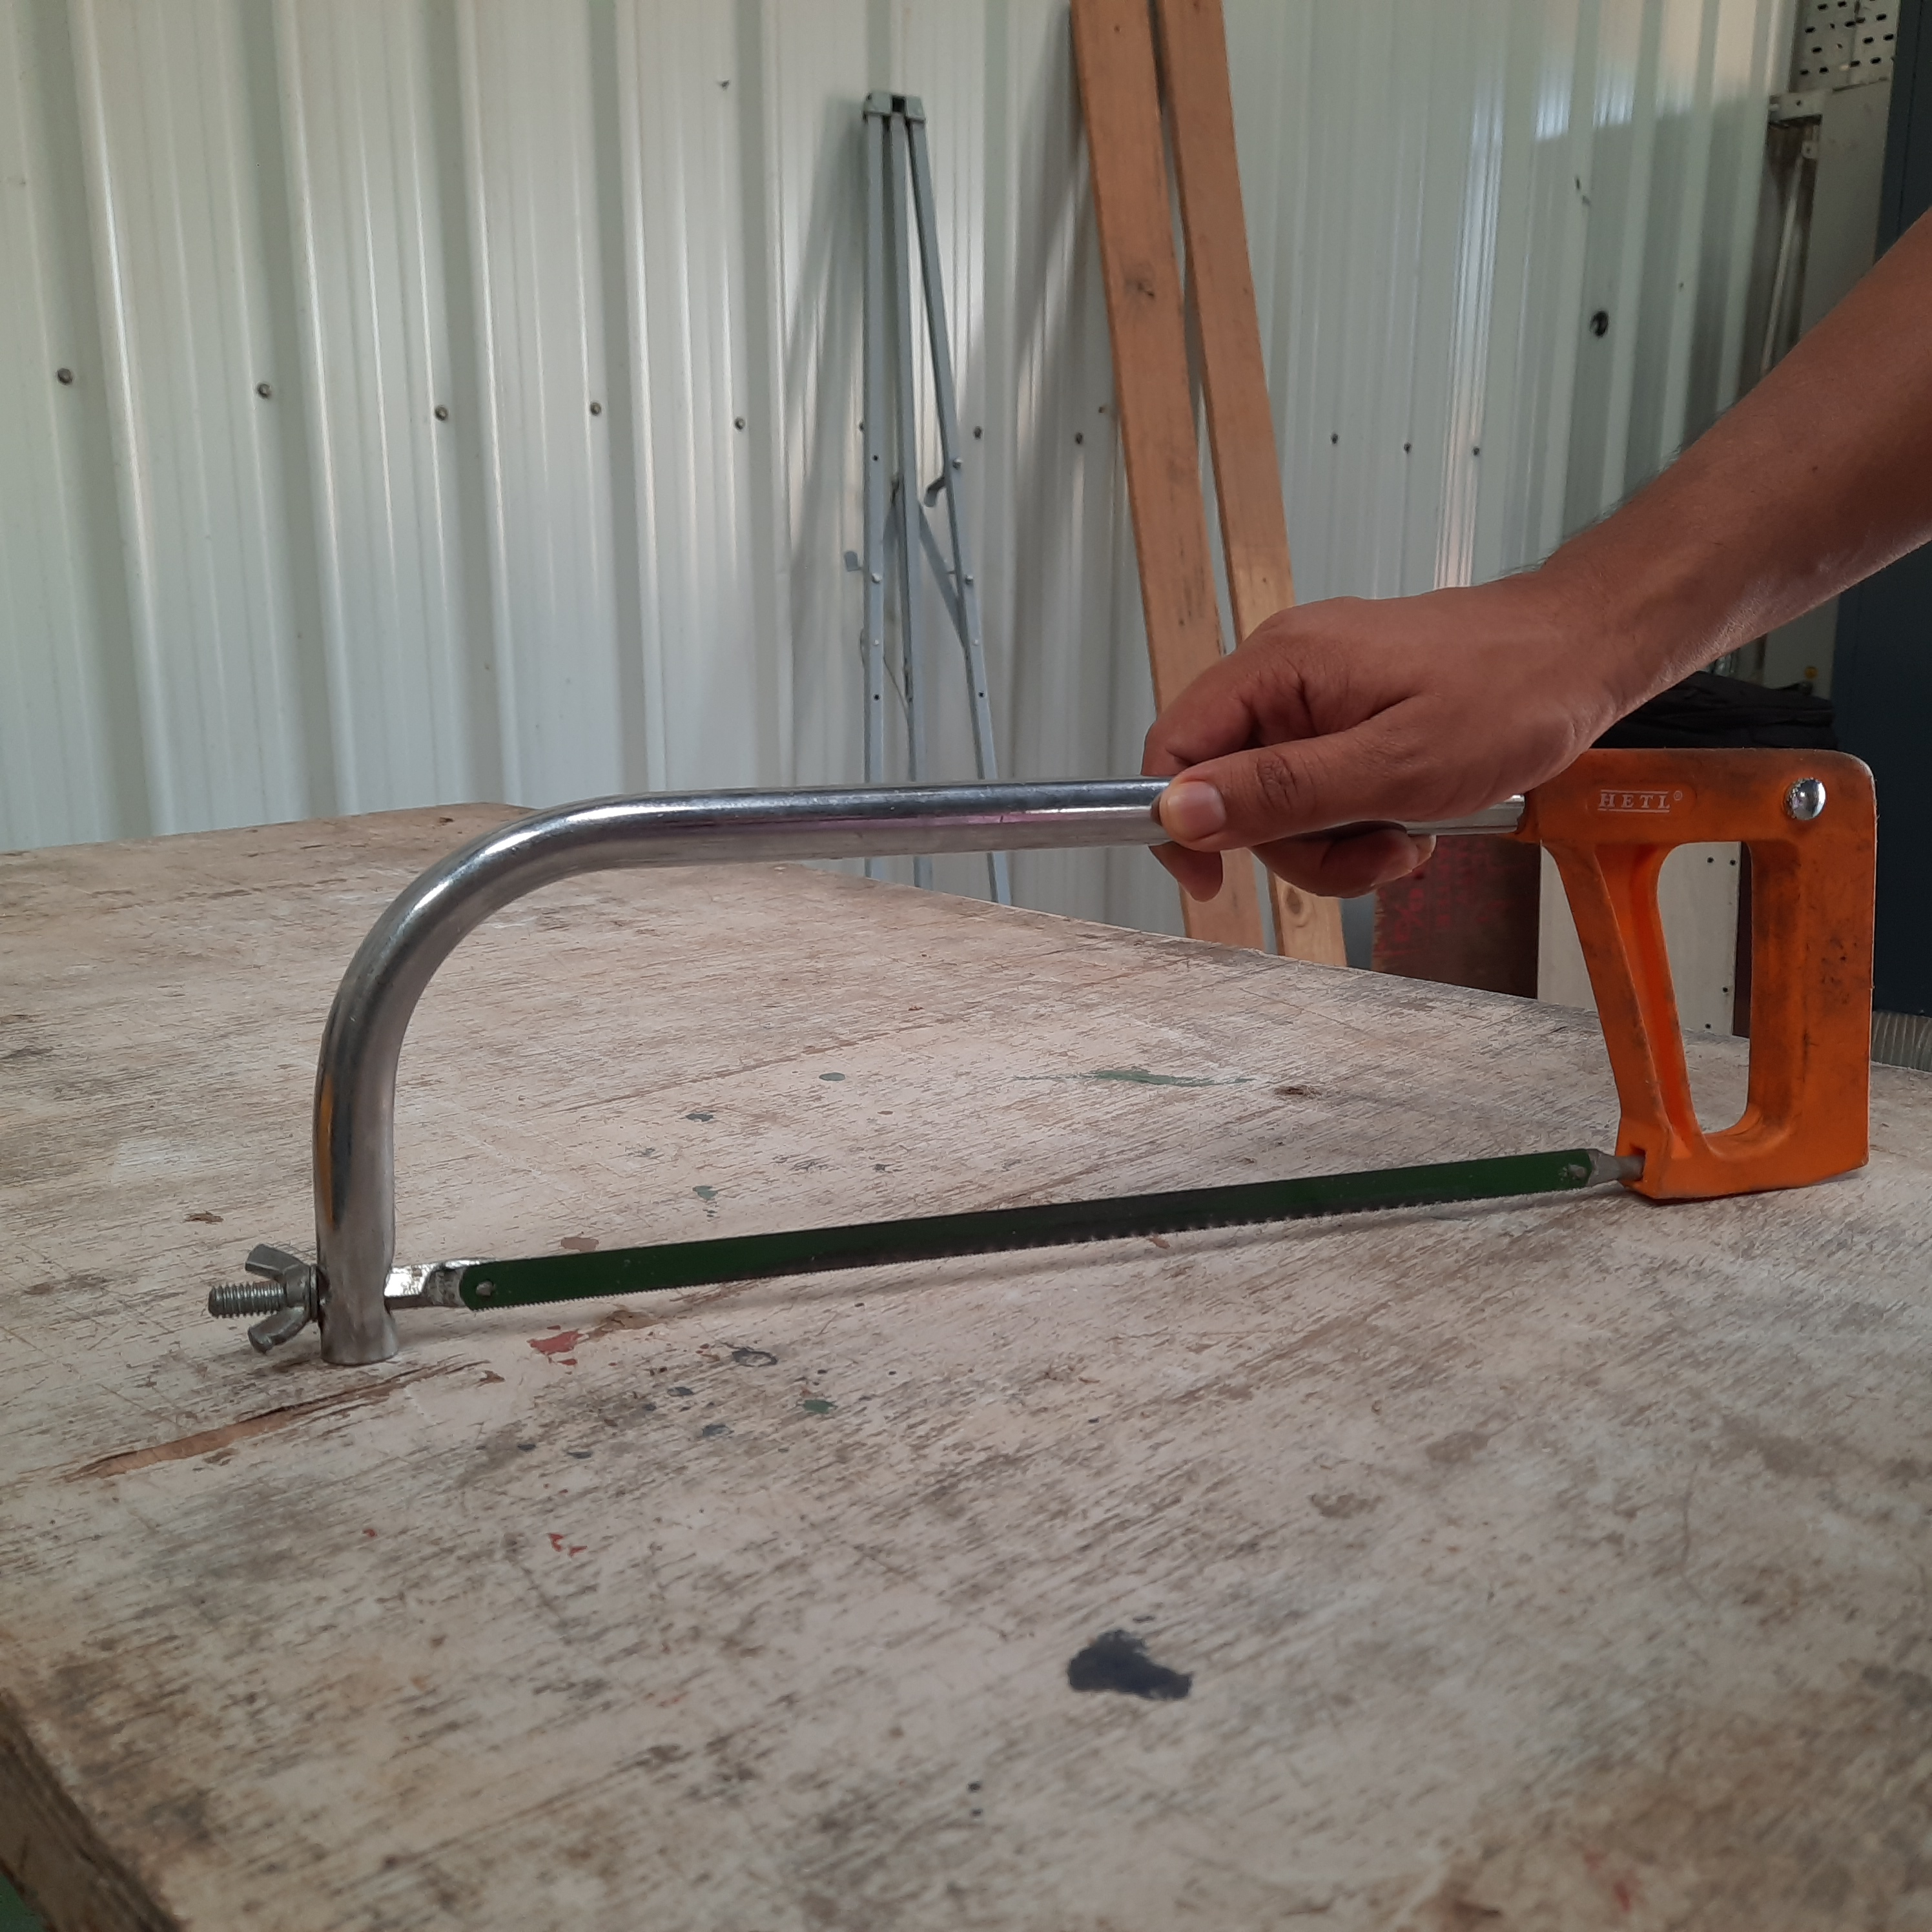Hexaframe: (202, 743, 1893, 1380)
